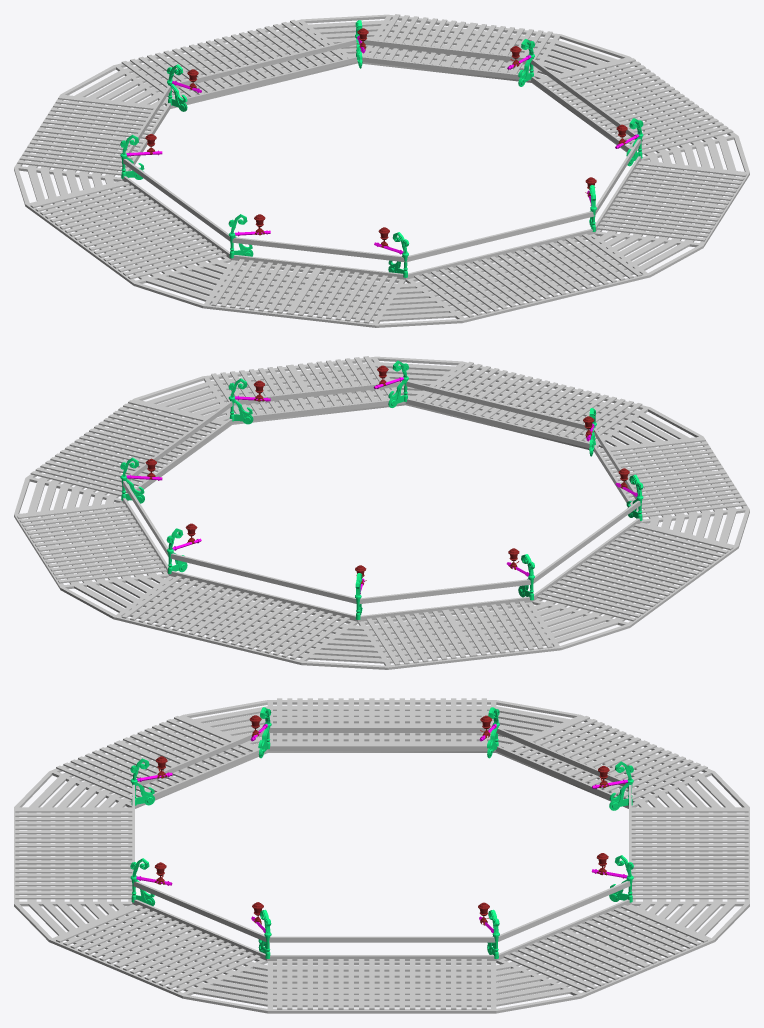
Rendered from Lobby_MiddleModel.fbx.
The picture shows the model from 3 angles, top to bottom: view 1: azimuth 30°, elevation 25°; view 2: azimuth 150°, elevation 25°; view 3: azimuth 270°, elevation 25°; orthographic projection. The views are drawn at different scales.
Parts seen in each view (by area): view 1: Rectangle070, Shape007; view 2: Rectangle070, Shape007, Line014; view 3: Rectangle070, Shape007, Line012, Line016.
Boxes of the visible parts, <box> form: Rectangle070: <box>14,14,749,327</box>; Shape007: <box>122,39,641,279</box>; Rectangle070: <box>14,356,749,669</box>; Shape007: <box>122,381,641,621</box>; Line014: <box>228,378,253,424</box>; Rectangle070: <box>14,698,749,1013</box>; Shape007: <box>132,726,631,960</box>; Line012: <box>609,761,633,810</box>; Line016: <box>130,758,154,805</box>.
Bounding box in the file's own units: 270 × 20.01 × 270.
